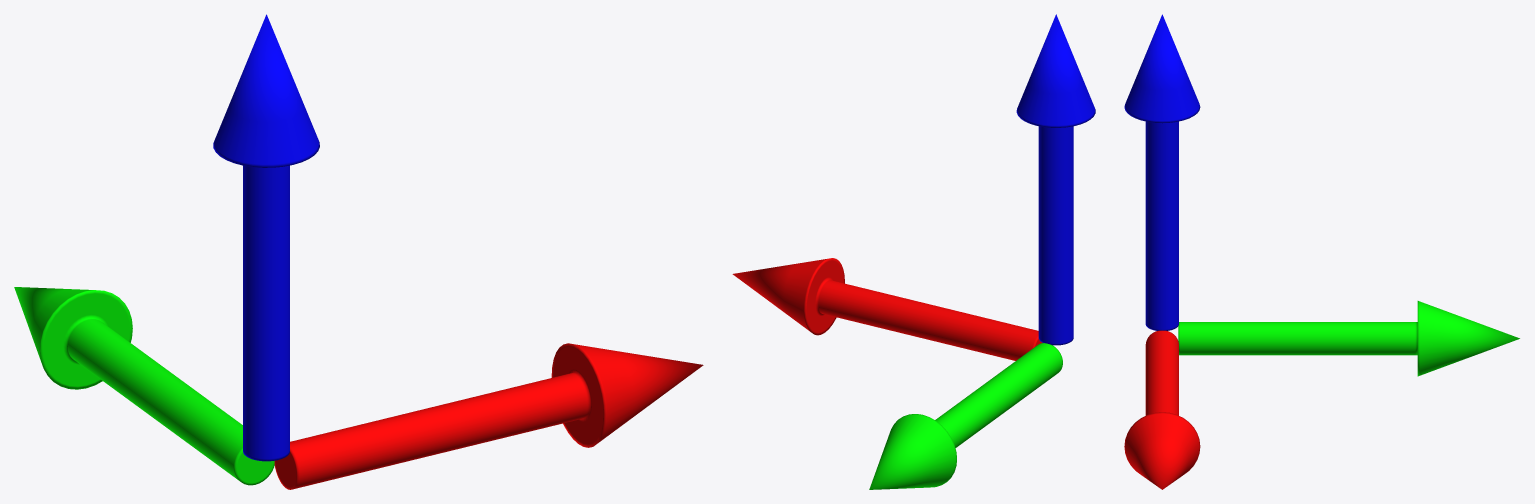
Rendered from arrows.obj.
3 views of the same model, side by side, from view 1: azimuth 30°, elevation 25°; view 2: azimuth 150°, elevation 25°; view 3: azimuth 270°, elevation 25° (orthographic). The views are drawn at different scales.
Visible parts, largest first — view 1: ArrowZ_Cone.001, ArrowX_Cone, ArrowY_Cone.002; view 2: ArrowZ_Cone.001, ArrowX_Cone, ArrowY_Cone.002; view 3: ArrowY_Cone.002, ArrowZ_Cone.001, ArrowX_Cone.
Part boxes in pixels (bbox=[...]): ArrowZ_Cone.001: bbox=[213, 14, 319, 461]; ArrowX_Cone: bbox=[274, 343, 703, 489]; ArrowY_Cone.002: bbox=[14, 287, 274, 485]; ArrowZ_Cone.001: bbox=[1016, 14, 1095, 345]; ArrowX_Cone: bbox=[732, 258, 1042, 360]; ArrowY_Cone.002: bbox=[869, 343, 1062, 489]; ArrowY_Cone.002: bbox=[1178, 301, 1519, 376]; ArrowZ_Cone.001: bbox=[1124, 14, 1200, 330]; ArrowX_Cone: bbox=[1124, 330, 1200, 489].
Bounding box in the file's own units: 1.06 × 1.06 × 1.06.
